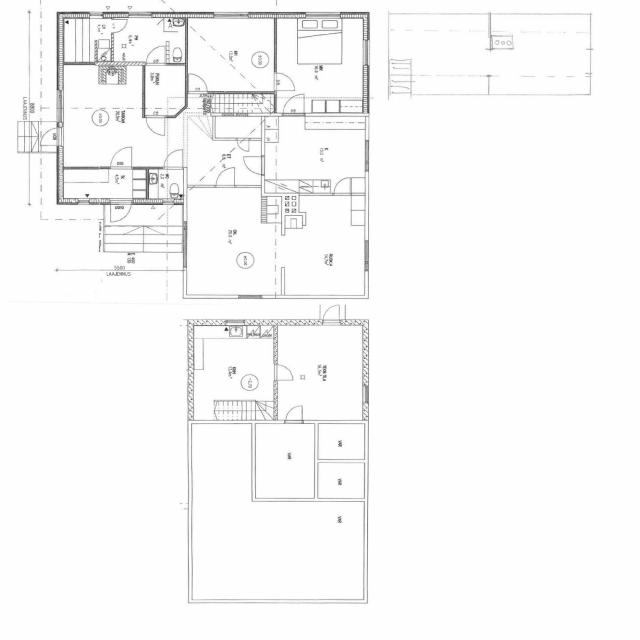door: (111, 198, 131, 224), (283, 93, 304, 116), (111, 147, 131, 170), (40, 128, 64, 145), (146, 115, 165, 135), (164, 149, 182, 170), (274, 72, 295, 90), (243, 157, 265, 174), (216, 168, 234, 188), (189, 74, 207, 94), (323, 304, 339, 326), (146, 46, 164, 65), (274, 364, 294, 380), (286, 406, 302, 424), (320, 498, 336, 515), (334, 178, 350, 195), (320, 407, 335, 423), (196, 408, 210, 423), (111, 20, 127, 32), (237, 138, 249, 151)
